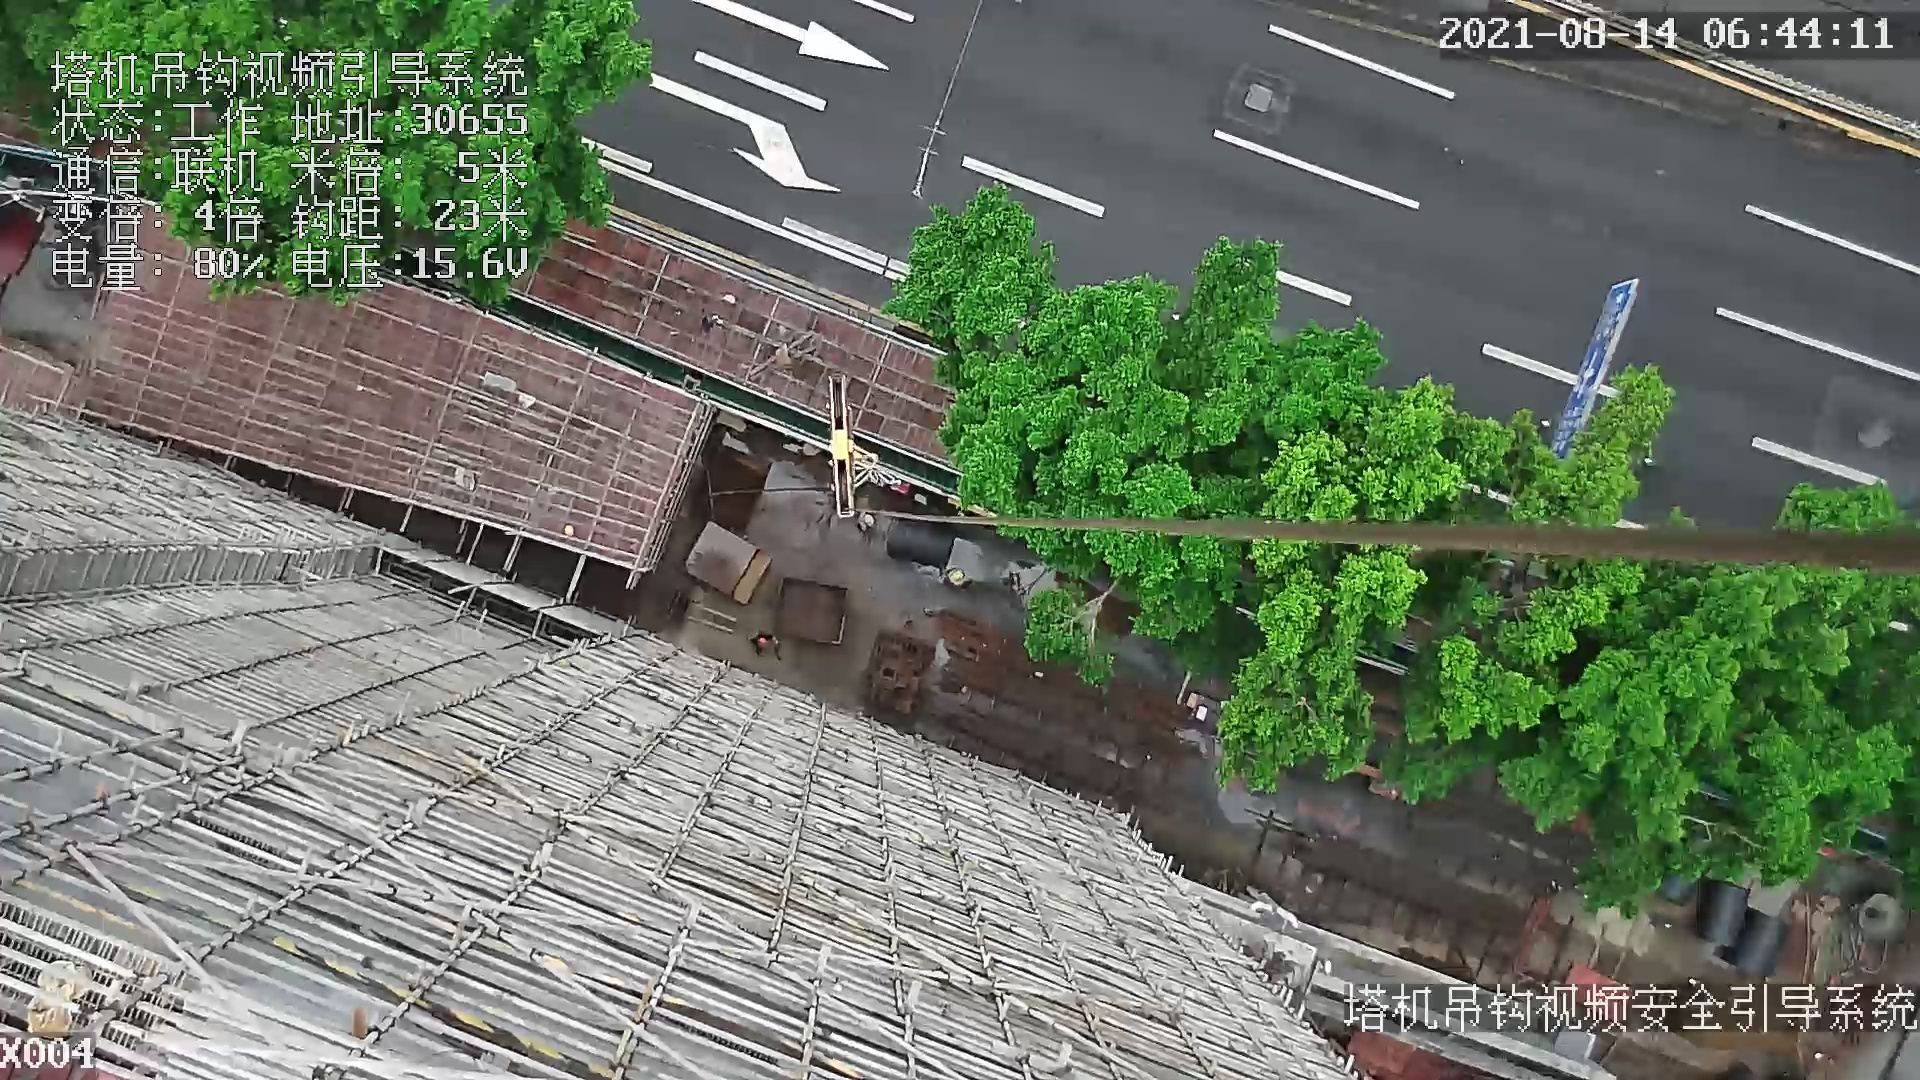hook: (817, 367, 883, 521)
person: (742, 624, 791, 659), (932, 564, 968, 595), (855, 508, 874, 535)
